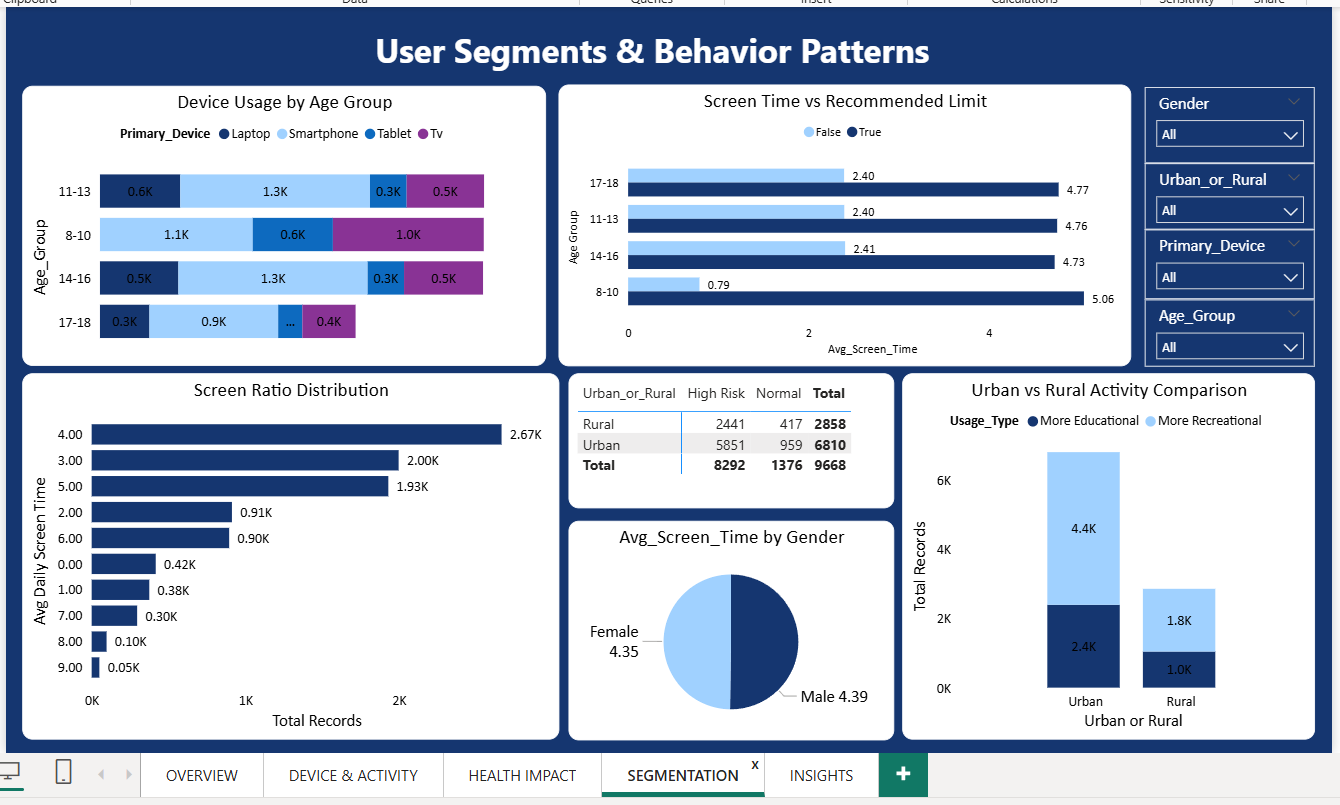

Layout of this report page (visuals, bound fields, positions):
{"tool":"powerbi","page":{"name":"SEGMENTATION","canvas":[1280,720],"ordinal":3},"visuals":[{"type":"textbox","box":[331.7,13.9,584,65.6],"z":0},{"type":"barChart","title":"Device Usage by Age Group","fields":{"Category":["Sheet1.Age_Group"],"Series":["Sheet1.Primary_Device"],"Y":["Sheet1.Total_Records"]},"box":[15.3,76.6,505.5,270.6],"z":1000},{"type":"columnChart","title":"Urban vs Rural Activity Comparison","fields":{"Category":["Sheet1.Urban_or_Rural"],"Series":["Sheet1.Usage_Type"],"Y":["Sheet1.Total_Records"]},"box":[865.4,353.6,398.2,353.6],"z":2000},{"type":"barChart","title":"Screen Ratio Distribution","fields":{"Category":["Sheet1.Avg_Daily_Screen_Time_hr (bins)"],"Y":["Sheet1.Total_Records"]},"box":[15.3,353.6,518.2,353.6],"z":3000},{"type":"clusteredBarChart","title":"Screen Time vs Recommended Limit","fields":{"Category":["Sheet1.Age_Group"],"Y":["Sheet1.Avg_Screen_Time"],"Series":["Sheet1.Exceeded_Recommended_Limit"]},"box":[533.5,75.3,552.7,271.9],"z":4000},{"type":"pivotTable","fields":{"Rows":["Sheet1.Urban_or_Rural"],"Columns":["Sheet1.Risk_Level"],"Values":["Sheet1.Total_Records"]},"box":[542.5,353.6,314,130.2],"z":5000},{"type":"pieChart","fields":{"Category":["Sheet1.Gender"],"Y":["Sheet1.Avg_Screen_Time"]},"box":[542.5,495.3,314,211.9],"z":6000},{"type":"slicer","fields":{"Values":["Sheet1.Gender"]},"box":[1099.1,77.2,164.1,73.6],"z":7000},{"type":"slicer","fields":{"Values":["Sheet1.Urban_or_Rural"]},"box":[1099.1,150.8,164.1,63.9],"z":8000},{"type":"slicer","fields":{"Values":["Sheet1.Age_Group"]},"box":[1099.1,282.3,164.1,65.1],"z":9000},{"type":"slicer","fields":{"Values":["Sheet1.Primary_Device"]},"box":[1099.1,214.7,164.1,67.6],"z":10000}]}

Visuals, with their boxes in screenshot pixels (x1, y1, x2, y2):
textbox: select_region(346, 21, 949, 89)
"Device Usage by Age Group" barChart: select_region(19, 86, 541, 365)
"Urban vs Rural Activity Comparison" columnChart: select_region(897, 372, 1308, 737)
"Screen Ratio Distribution" barChart: select_region(19, 372, 554, 737)
"Screen Time vs Recommended Limit" clusteredBarChart: select_region(554, 85, 1125, 365)
pivotTable - Sheet1.Urban_or_Rural x Sheet1.Risk_Level: select_region(564, 372, 888, 506)
pieChart - Sheet1.Gender x Sheet1.Avg_Screen_Time: select_region(564, 518, 888, 737)
slicer - Sheet1.Gender: select_region(1138, 87, 1308, 163)
slicer - Sheet1.Urban_or_Rural: select_region(1138, 163, 1308, 229)
slicer - Sheet1.Age_Group: select_region(1138, 298, 1308, 366)
slicer - Sheet1.Primary_Device: select_region(1138, 229, 1308, 298)
